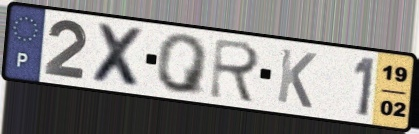1: (350, 55, 377, 120)
2: (42, 17, 91, 83)
K: (274, 46, 319, 111)
Q: (155, 33, 212, 98)
R: (207, 36, 264, 106)
X: (89, 20, 148, 92)
